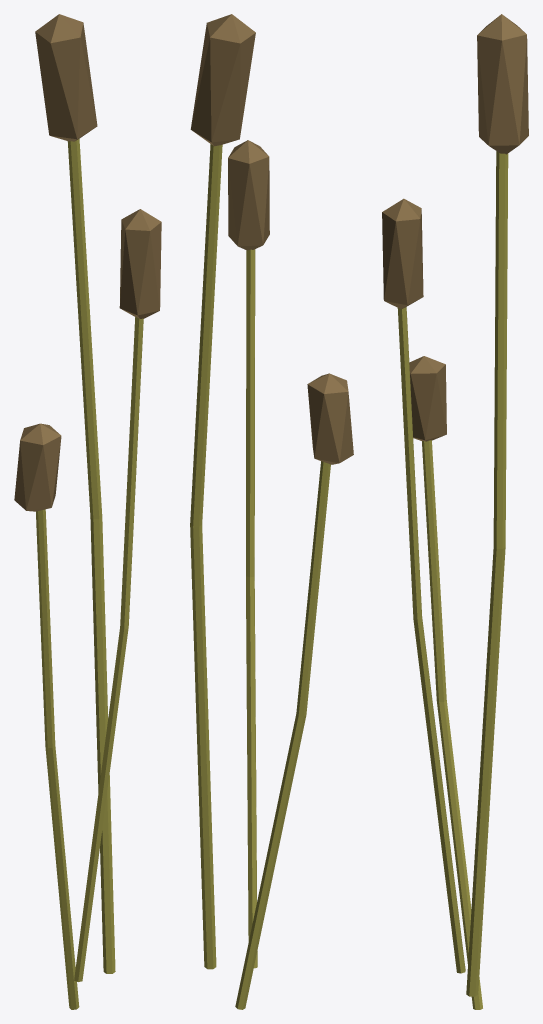
File: enchantedforest_cattail.fbx
3 views of the same model, side by side, from view 1: azimuth 30°, elevation 25°; view 2: azimuth 150°, elevation 25°; view 3: azimuth 270°, elevation 25° (orthographic).
Visible parts, largest first — view 1: Cylinder.020; view 2: Cylinder.020; view 3: Cylinder.020.
Boxes of the visible parts, x1,y1,x2,y2 form: Cylinder.020: [14, 14, 161, 1009]; Cylinder.020: [190, 14, 353, 1009]; Cylinder.020: [382, 14, 528, 1009].
Size of the model in its own units: 0.2873 by 2.13 by 0.2857.
